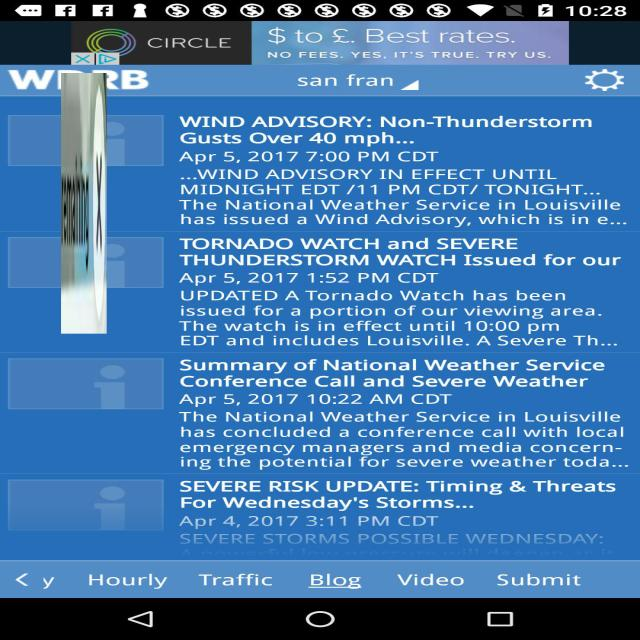misdirection: (61, 73, 107, 334)
